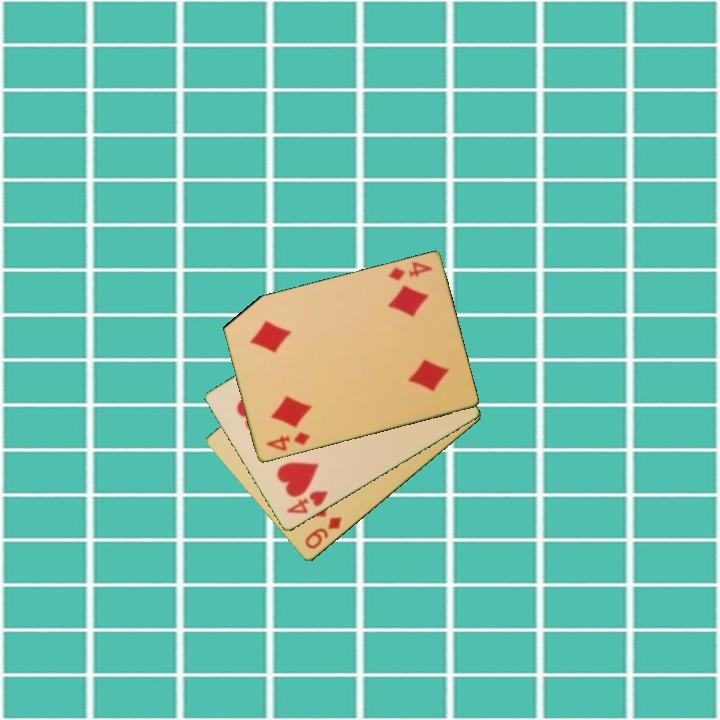4d: (385, 258, 435, 284), (263, 429, 313, 454)
4h: (283, 487, 331, 517)
9d: (301, 513, 344, 553)
